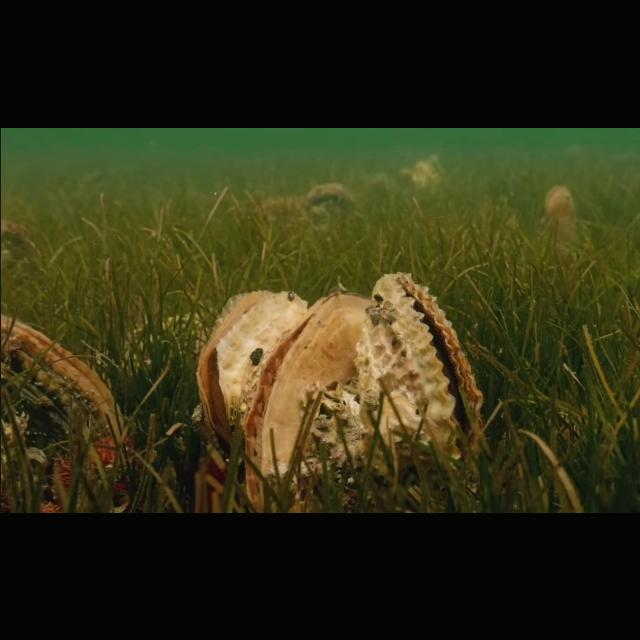Oyster-Closed: (0, 312, 124, 512), (300, 180, 358, 220)
Oyster-Open: (348, 270, 484, 506), (242, 287, 372, 513), (196, 286, 308, 458), (542, 180, 574, 228), (410, 149, 442, 187)
